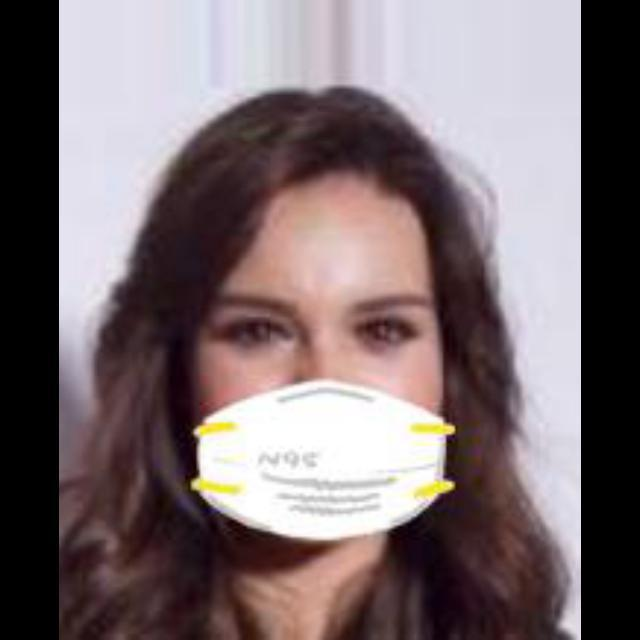suspicion: (163, 143, 532, 562)
